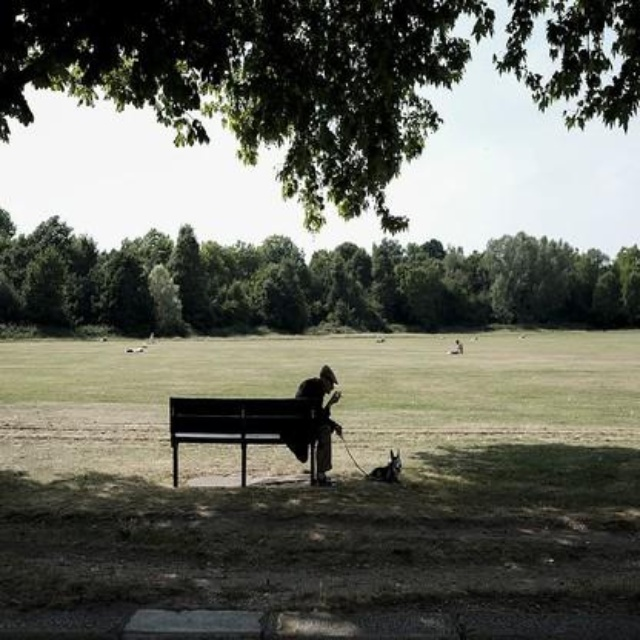obstacle: (165, 400, 329, 483)
